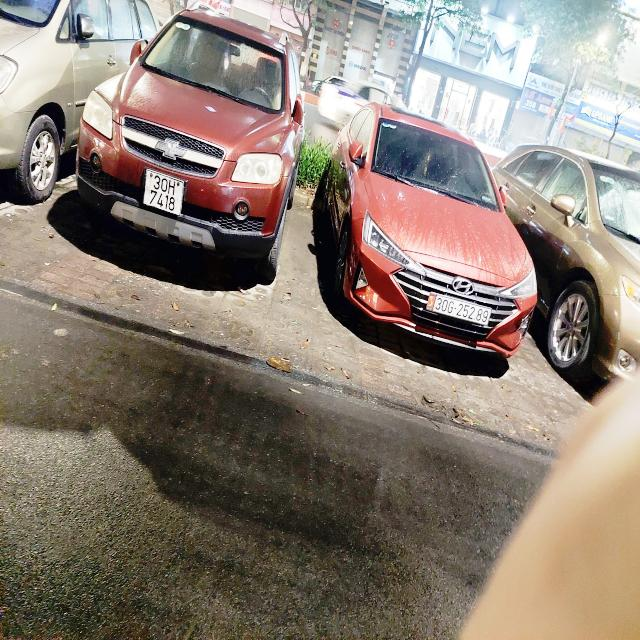license_plate: (424, 291, 496, 330), (141, 167, 188, 220)
